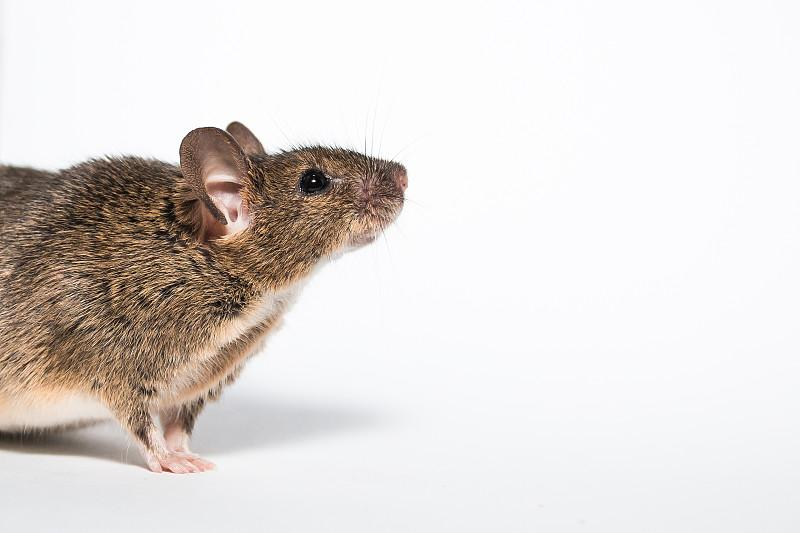rat: (23, 84, 424, 499)
